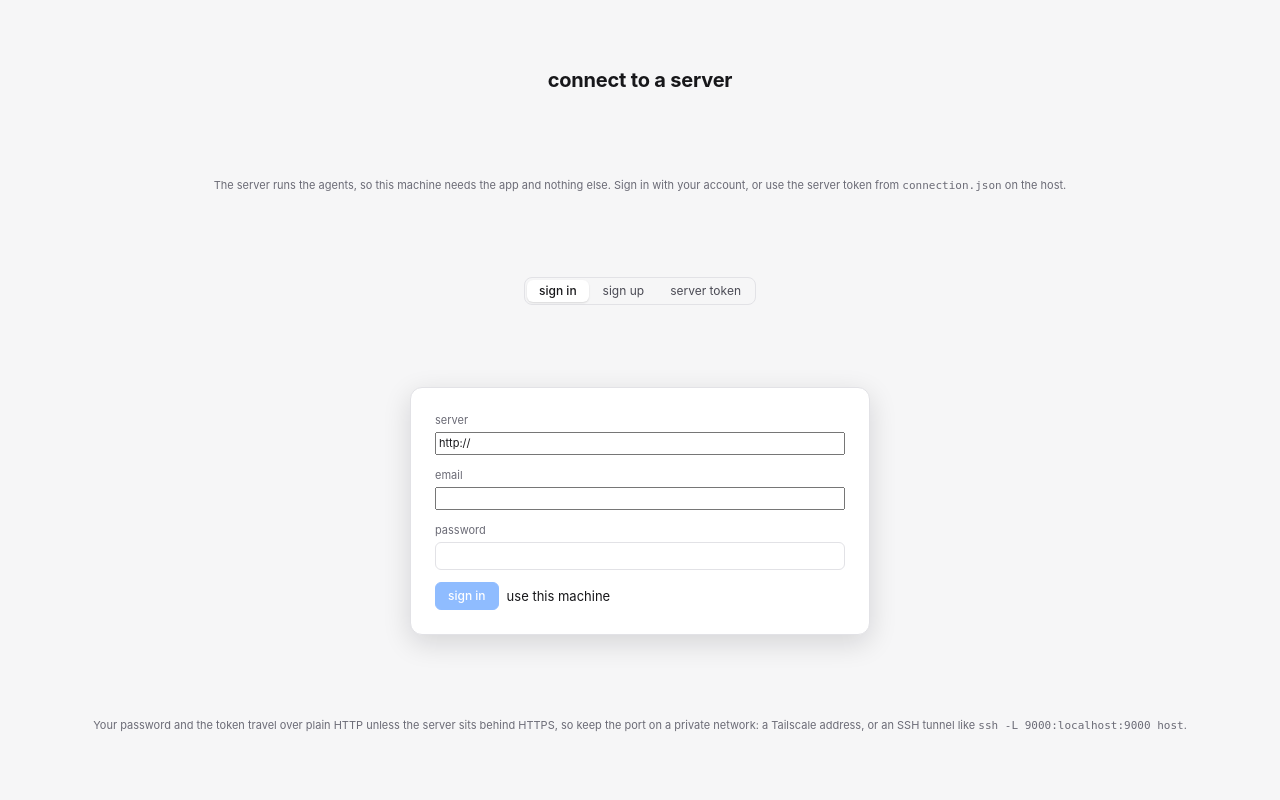
Test: Connect › shows a refused sign-in and stays on the form
In the field labelled "email": (640, 499) [435,487,845,510], type "ada@example.com"
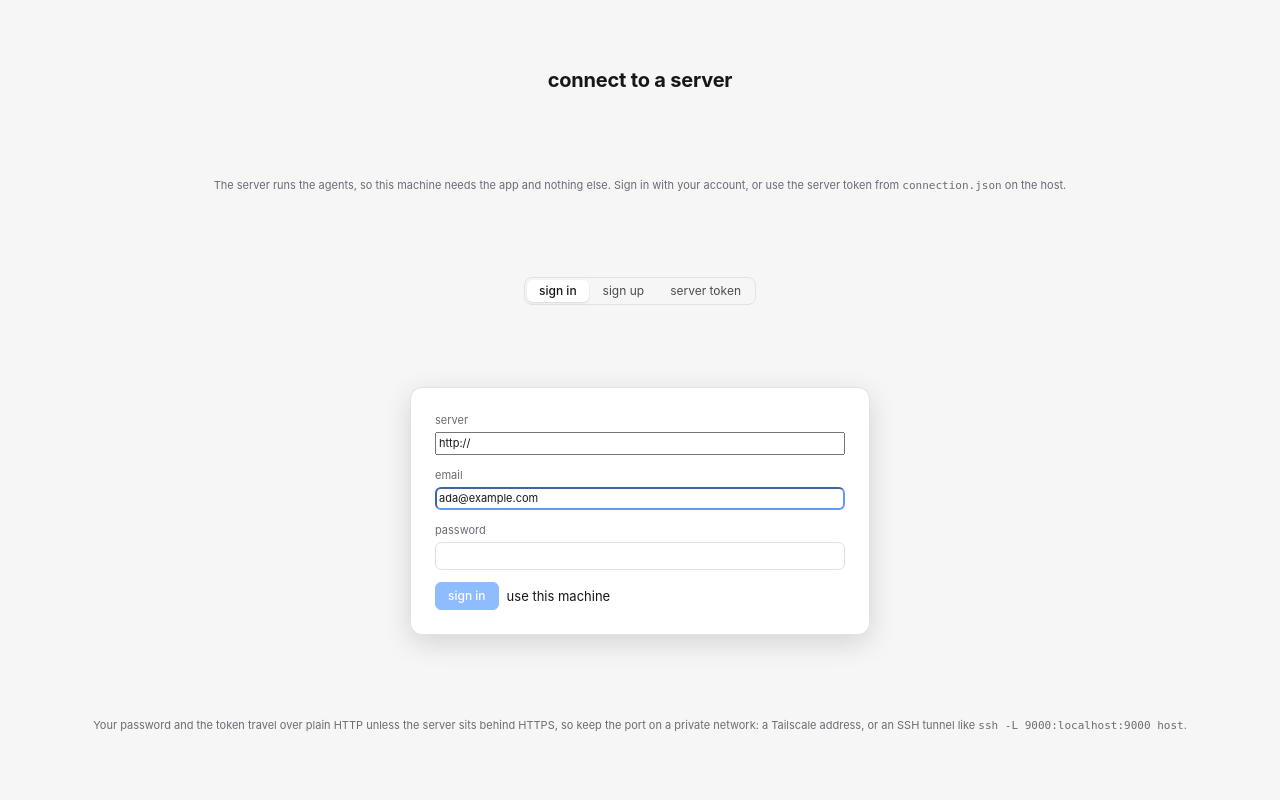
In the password field labelled "password": (640, 556) [435,542,845,570], type "nope"
Then press Enter
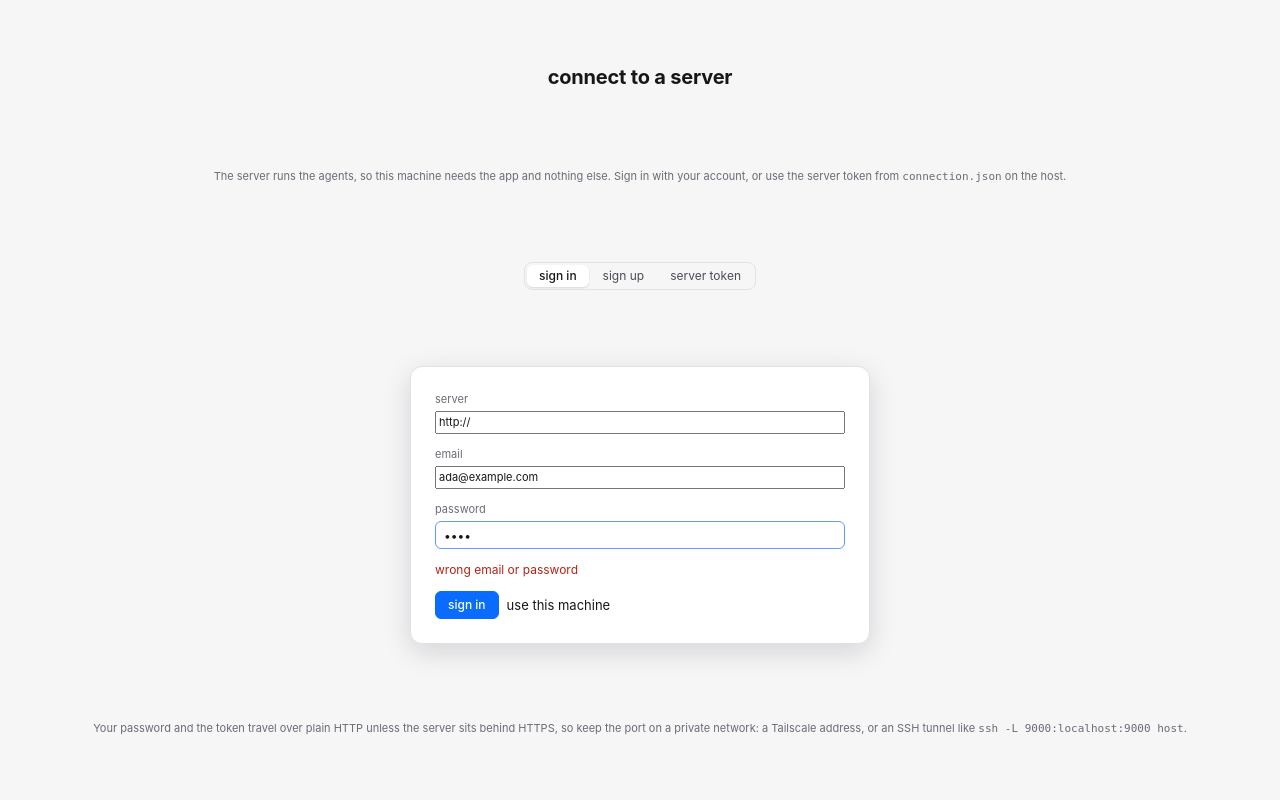
Now the text "wrong email or password" is shown, box [435,562,578,577]
